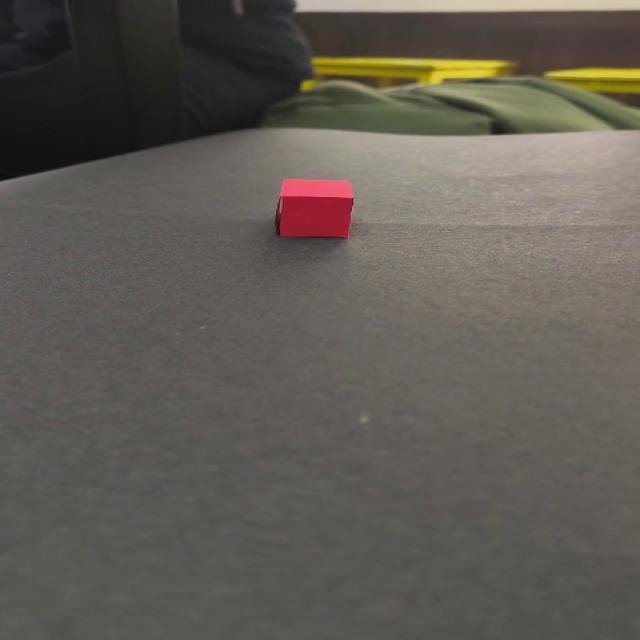red block: (273, 178, 355, 238)
